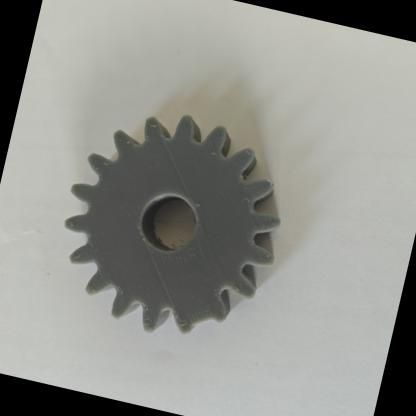defect: (155, 268, 244, 344)
gear: (35, 82, 318, 372)
